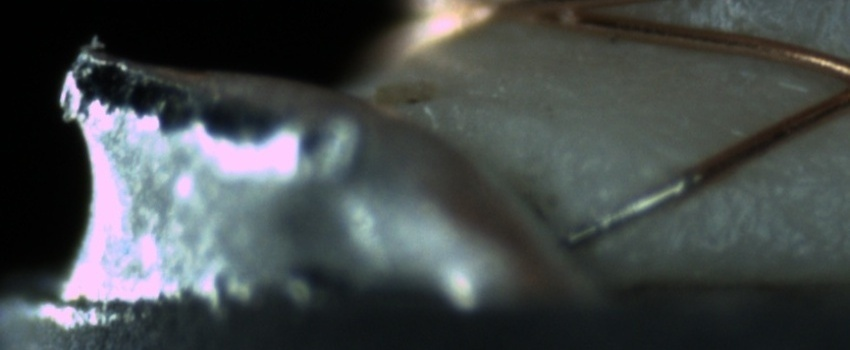CL: (810, 49, 850, 121)
TS: (559, 170, 699, 244)
